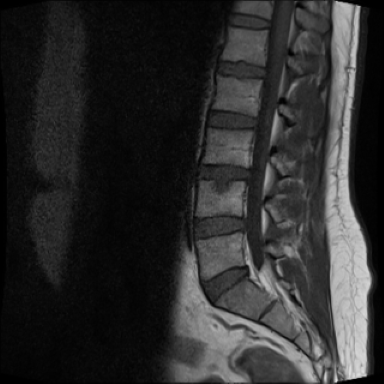Degenerative Disc Disease (DDD): (196, 160, 259, 184)
Lumbar Disc Bulge (LDB): (196, 261, 254, 309), (194, 160, 258, 184)
Normal IVD: (205, 104, 265, 132), (194, 212, 253, 240), (214, 56, 272, 82), (224, 11, 275, 30)
Spinal Stenosis (SS): (242, 159, 264, 185), (243, 259, 256, 282)
